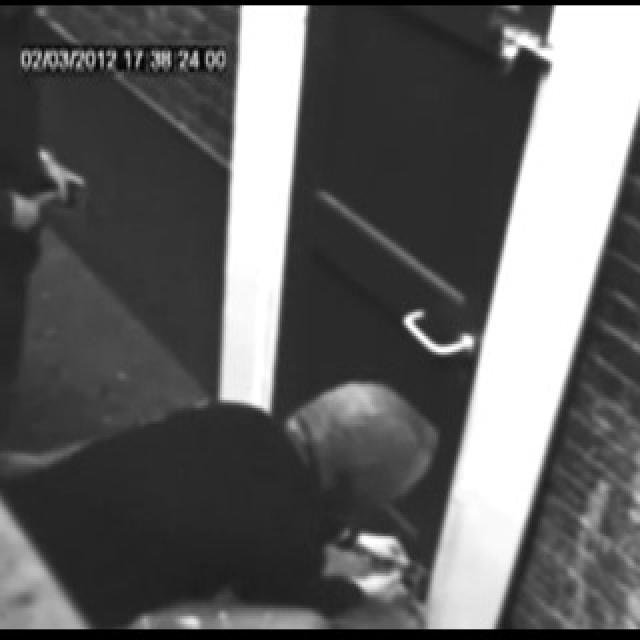thief: (270, 343, 455, 542)
